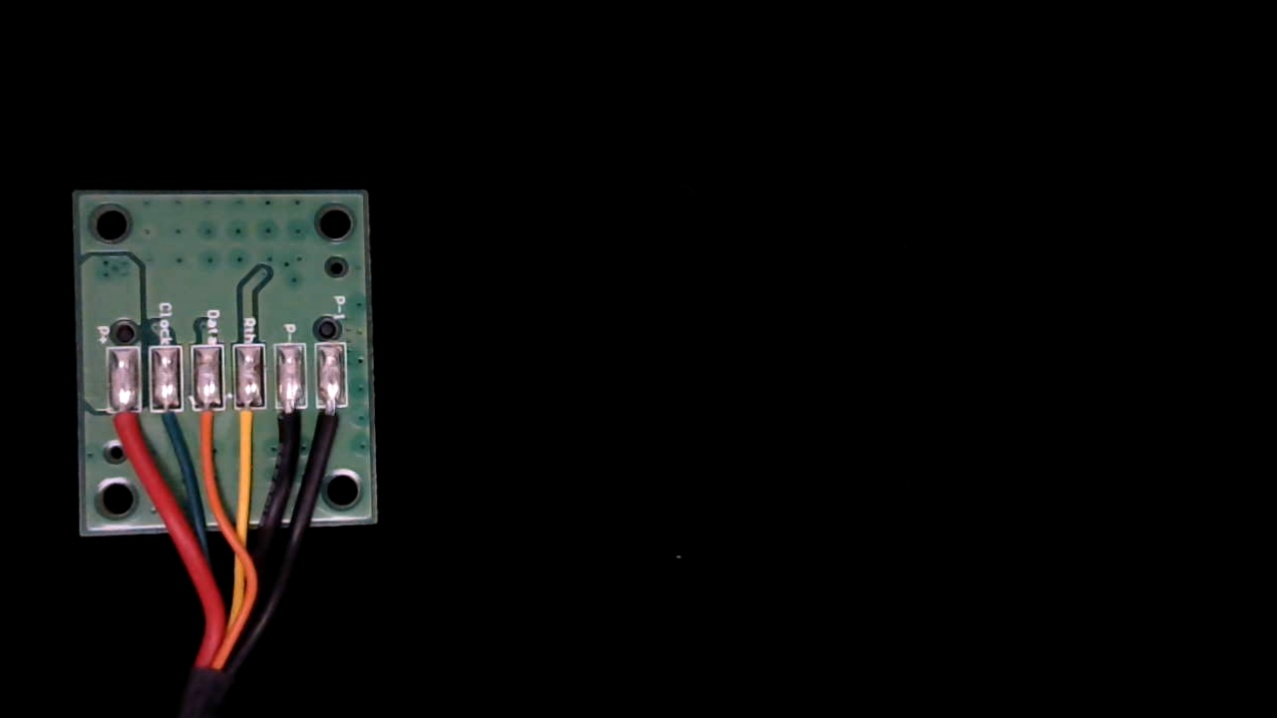Black: (274, 388, 305, 457)
Black1: (318, 388, 352, 456)
Green: (148, 391, 185, 458)
Orange: (191, 391, 225, 464)
Red: (105, 391, 141, 462)
Yellow: (230, 387, 266, 462)
